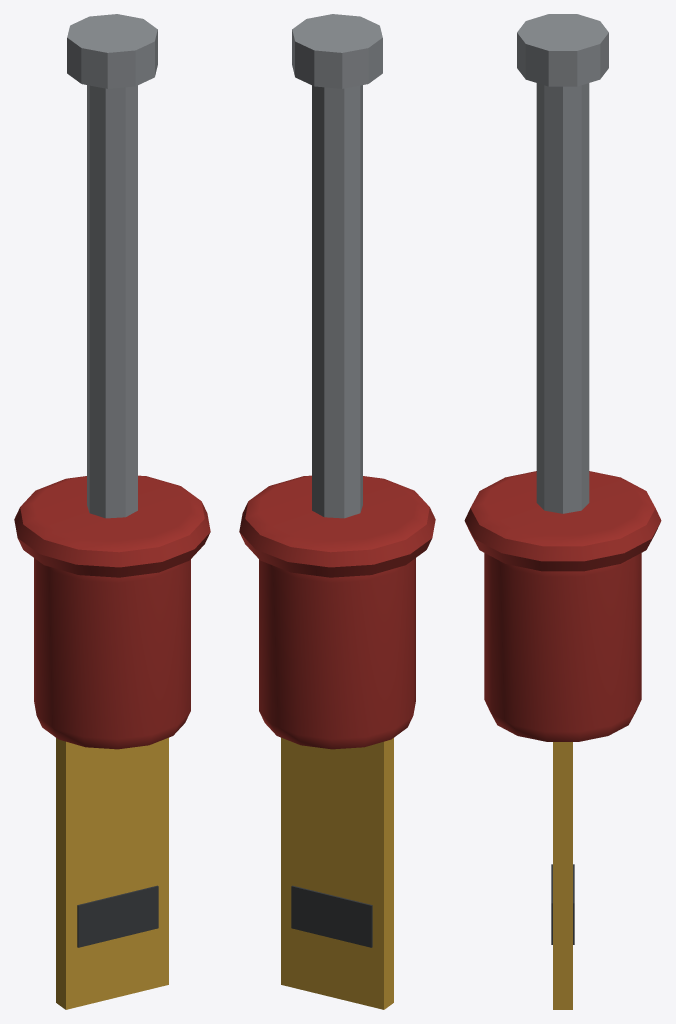
The model's file is prop_customs_seal.glb.
3 views of the same model, side by side, from view 1: azimuth 30°, elevation 25°; view 2: azimuth 150°, elevation 25°; view 3: azimuth 270°, elevation 25° (orthographic).
Parts seen in each view (by area): view 1: Body, Shackle; view 2: Body, Shackle; view 3: Body, Shackle.
Part boxes in pixels (x1,y1,x2,y2): Body: (14, 475, 210, 1009); Shackle: (67, 14, 157, 518); Body: (239, 475, 435, 1009); Shackle: (292, 14, 382, 518); Body: (464, 471, 661, 1009); Shackle: (517, 14, 608, 513).
Bounding box in the file's own units: 0.0292 × 0.16 × 0.03.
